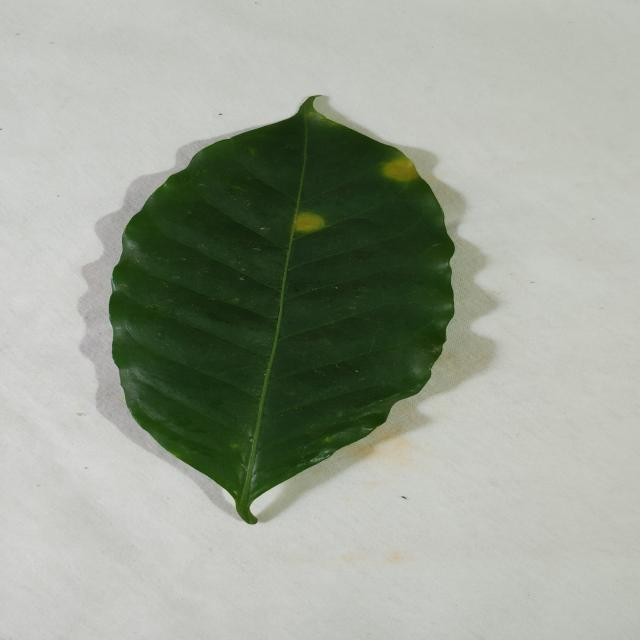Enfermedad-Roya: (108, 96, 456, 527)
